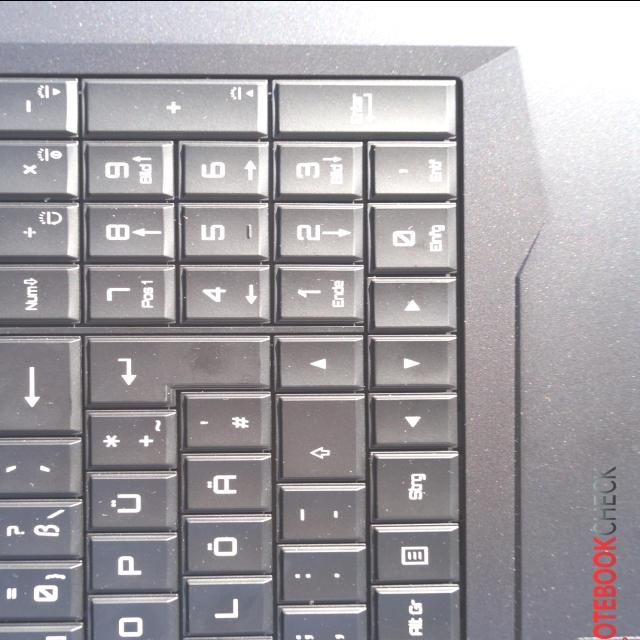0: (0, 564, 81, 623)
9: (0, 613, 83, 640)
accent: (0, 441, 77, 499)
ae: (176, 456, 270, 515)
altgr-right: (366, 589, 458, 640)
comma: (272, 612, 363, 640)
del: (0, 336, 78, 439)
enter: (79, 334, 271, 410)
hash: (176, 396, 267, 453)
i: (83, 624, 177, 640)
k: (177, 614, 273, 640)
keyboard: (0, 55, 520, 640)
l: (178, 581, 272, 638)
m: (275, 628, 369, 640)
minus: (272, 486, 364, 544)
o: (81, 598, 177, 640)
oe: (178, 517, 272, 578)
p: (80, 536, 175, 596)
plus: (80, 413, 174, 471)
point: (273, 548, 363, 605)
shift-right: (272, 394, 364, 484)
space: (368, 619, 456, 640)
ss: (0, 503, 80, 561)
strg-right: (366, 452, 458, 526)
ue: (81, 474, 176, 534)
